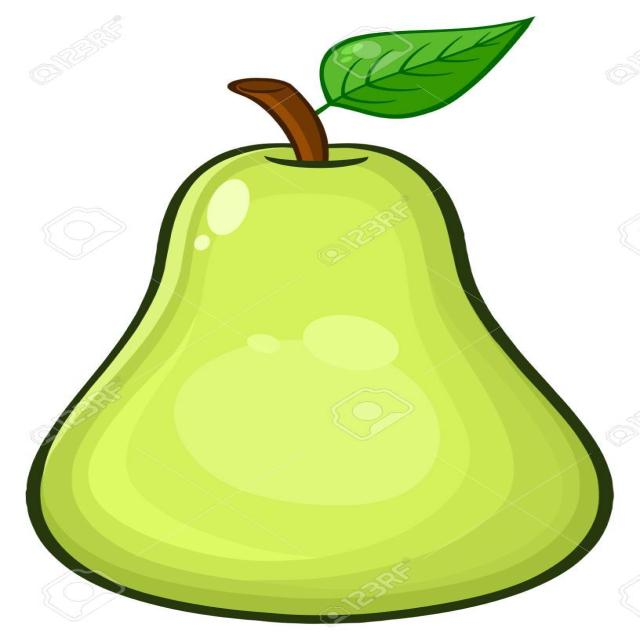pera: (24, 17, 630, 629)
